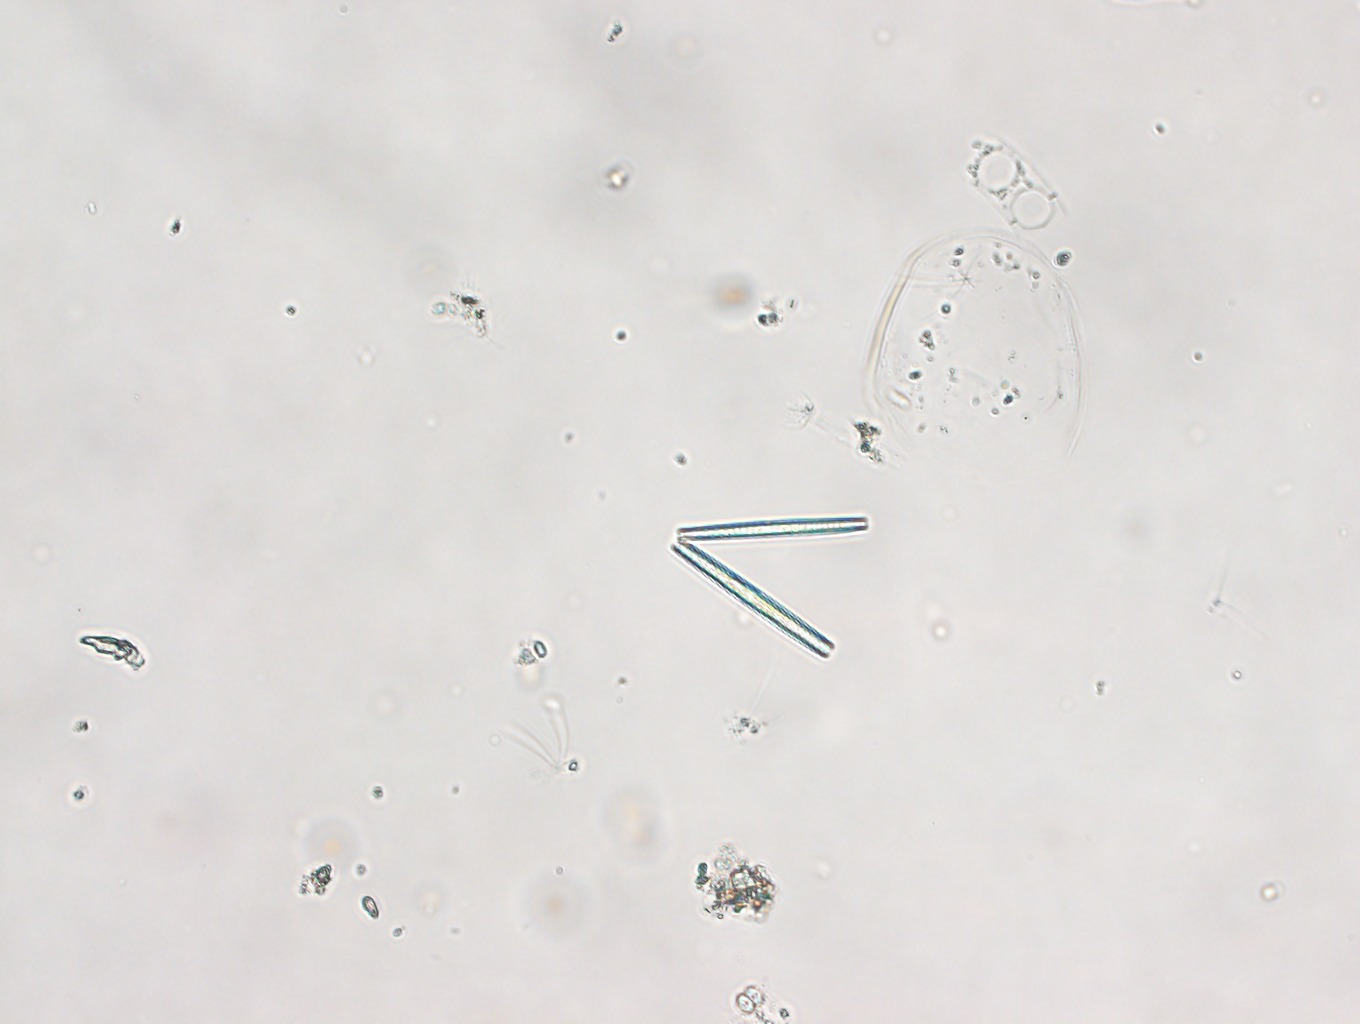eucampia: (653, 509, 876, 662), (953, 128, 1072, 246)
